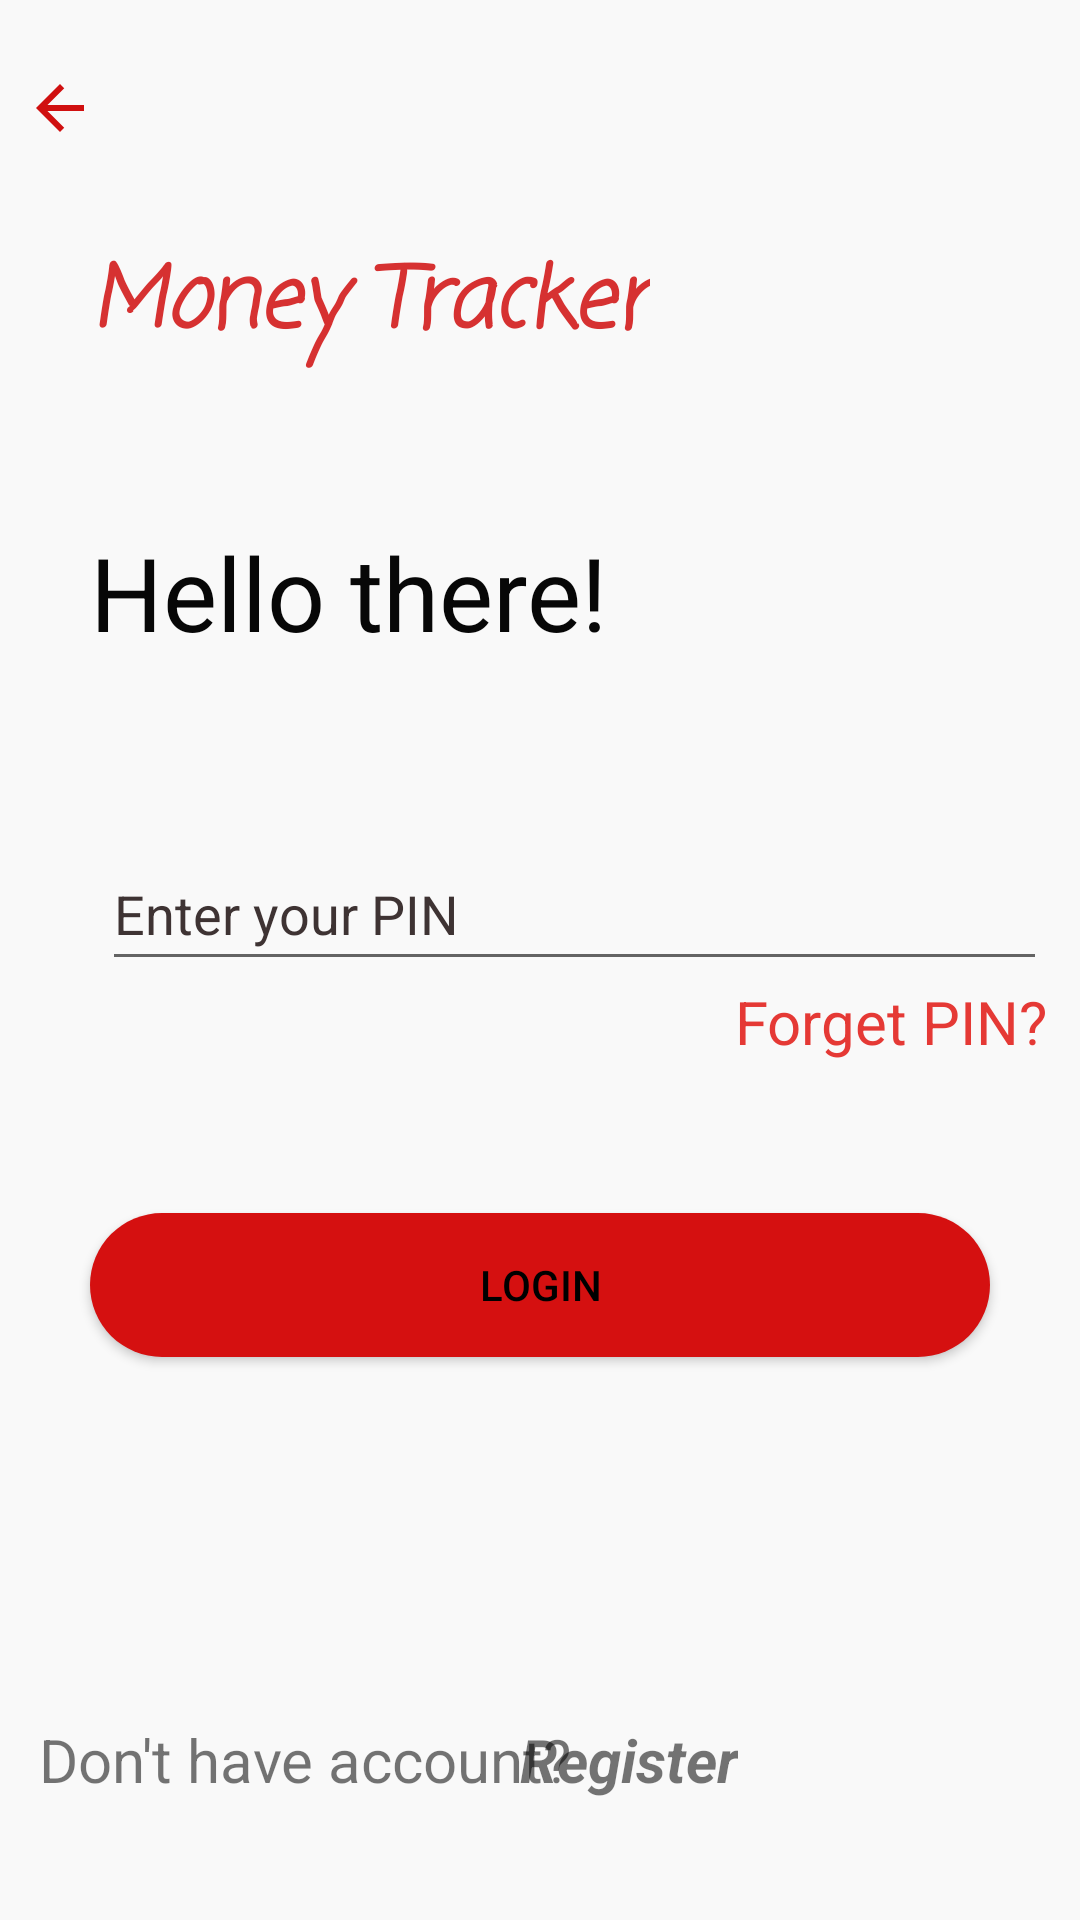

Named icons in this screenshot (1080w x 1920h) and their bounding boxes, (x1, y1, x2, y2):
back: (36, 84, 84, 132)
